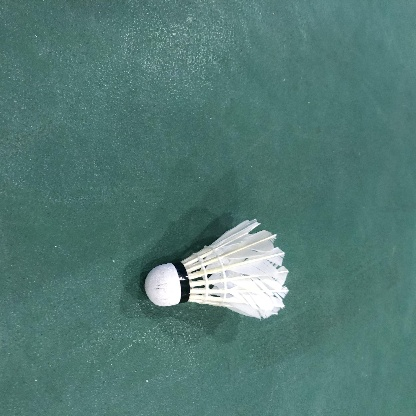ball_single: (144, 219, 289, 319)
